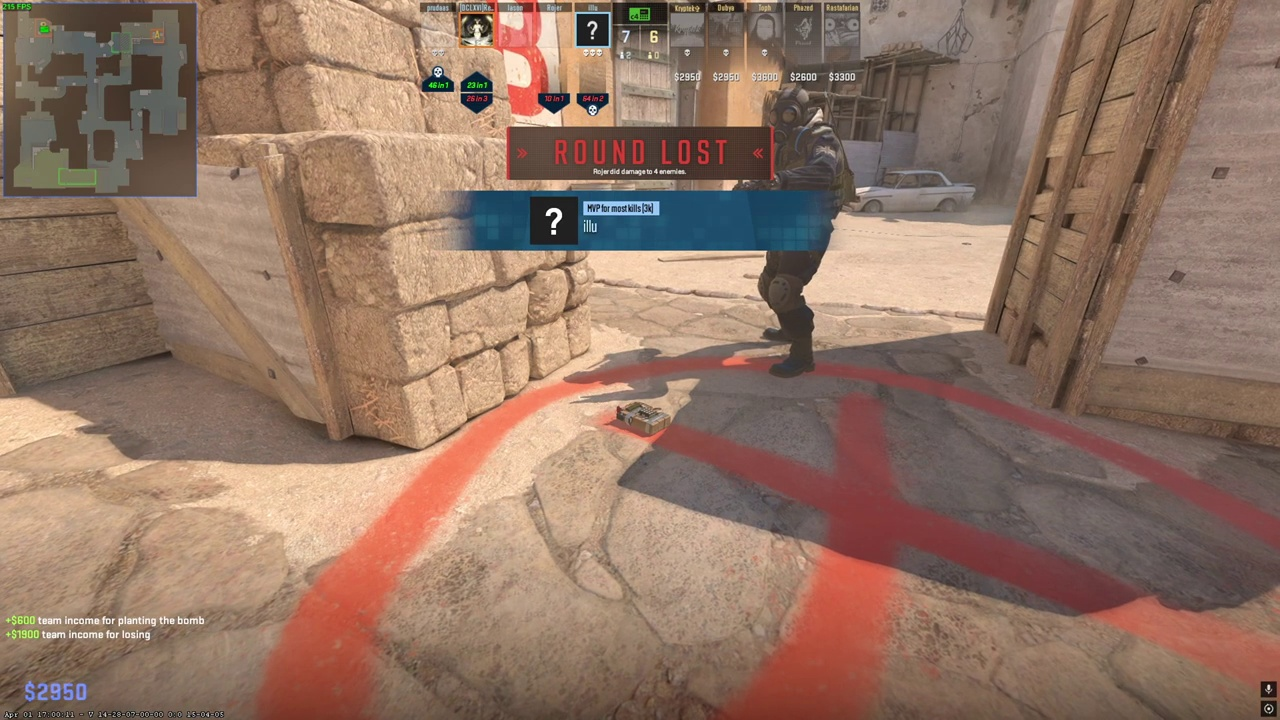CT: (739, 86, 847, 375)
